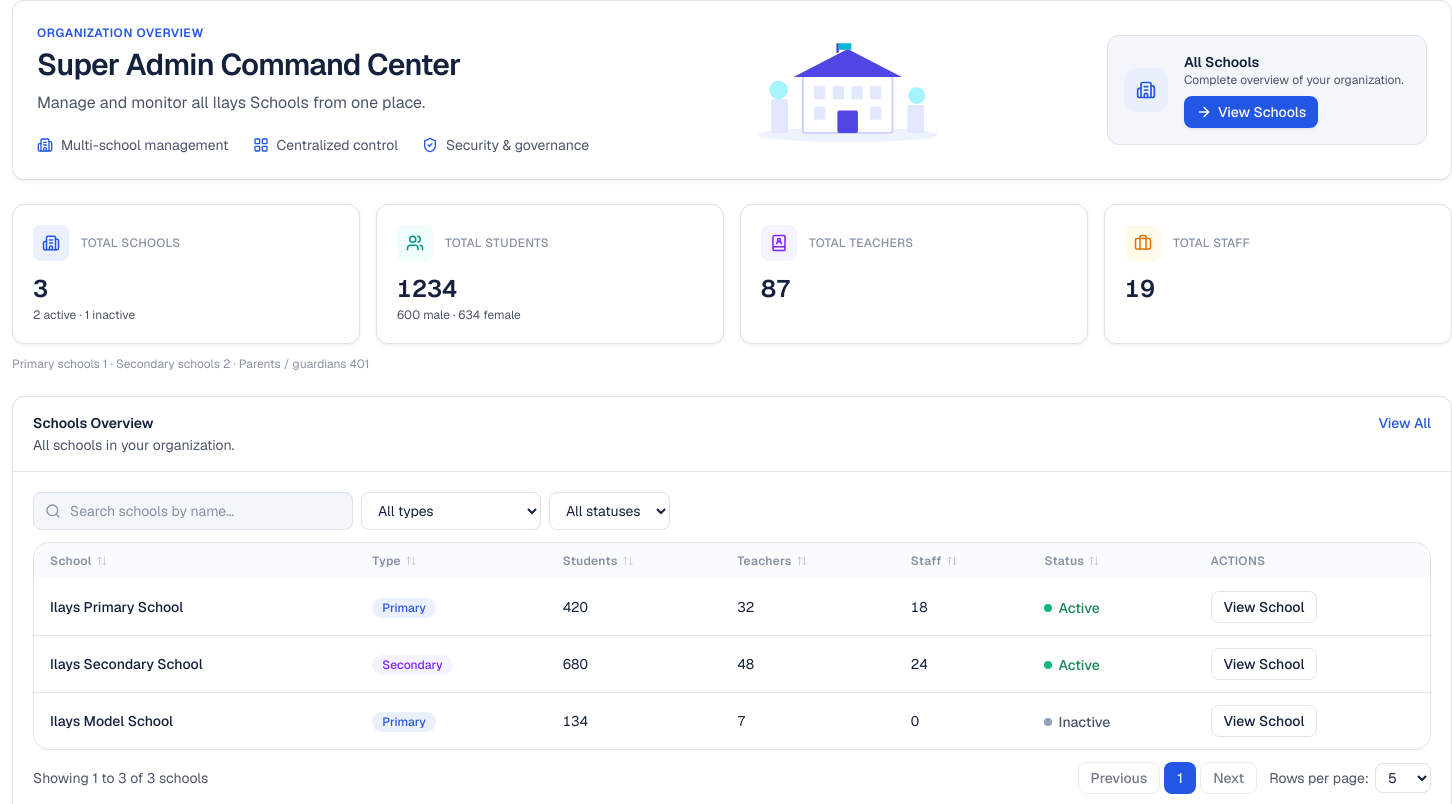
it: OrganizationControlCenter — Schools Overview (real schools) › filters by status, and the two filters combine
The image size is (1452, 804).
Expected: the heading "Schools Overview" is shown, left=33, top=414, right=154, bottom=432
Select "Inactive" in the dropdown named "Filter by status": x=610, y=511 left=549, top=492, right=670, bottom=530
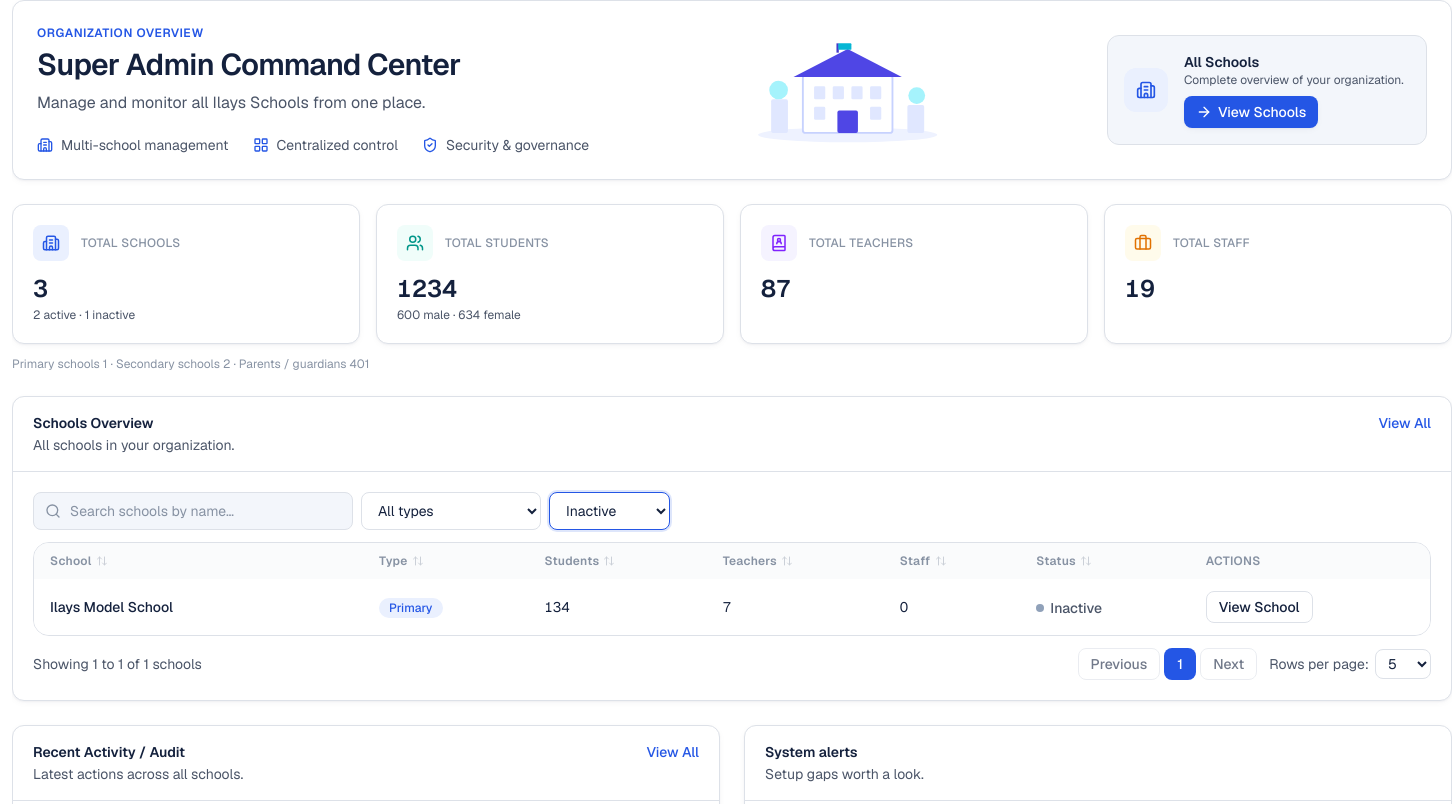
Expected: the text "Ilays Model School" is shown, left=50, top=598, right=173, bottom=616
Result: the text "Ilays Primary School" is gone
Select "Secondary" in the dropdown named "Filter by school type": x=451, y=511 left=361, top=492, right=541, bottom=530
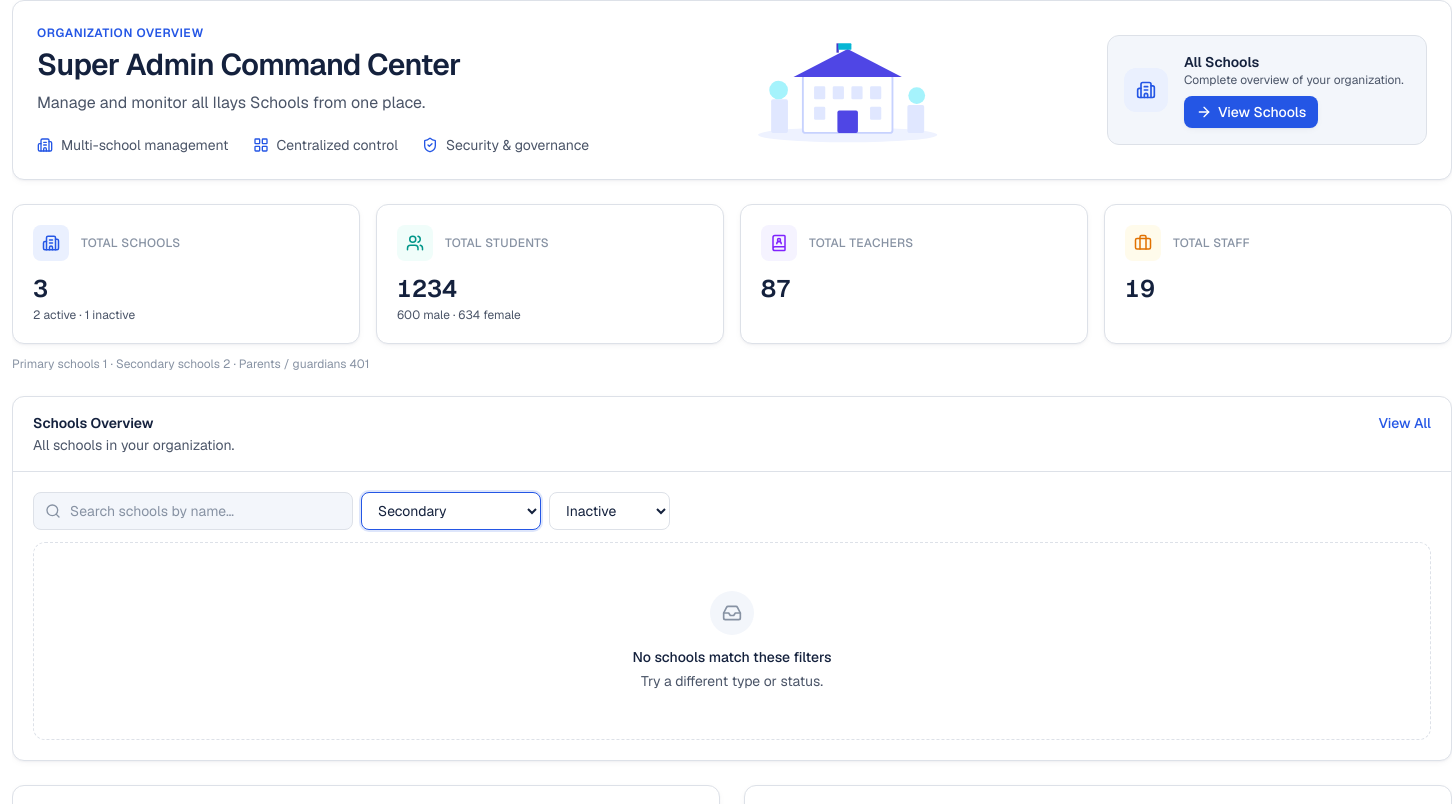
Result: the text "No schools match these filters" is shown at left=632, top=647, right=831, bottom=667
